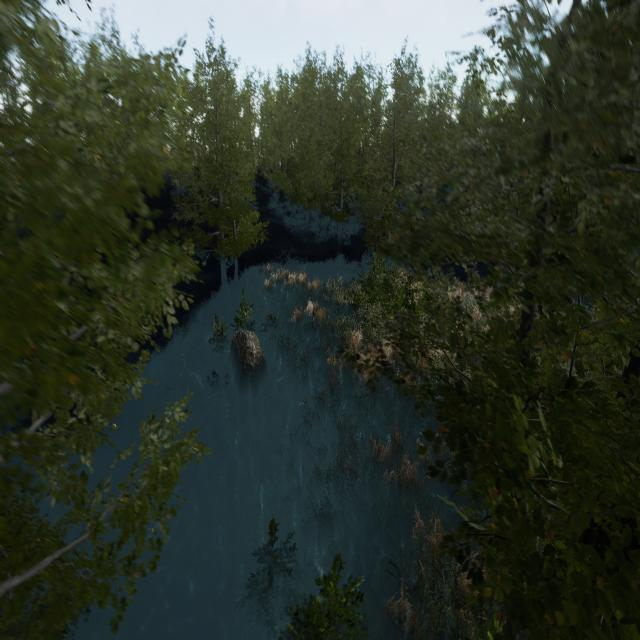Human: (307, 301, 322, 341)
